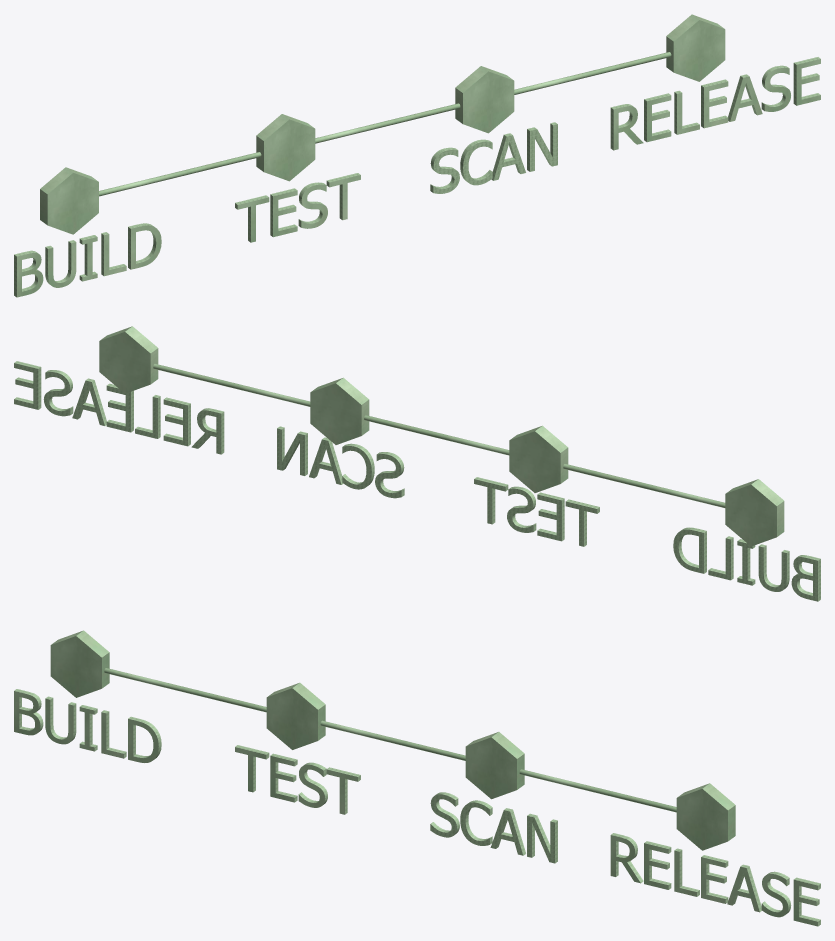
File: pipeline.gltf
3 views of the same model, one above another, from view 1: azimuth 30°, elevation 25°; view 2: azimuth 150°, elevation 25°; view 3: azimuth 330°, elevation 25° (orthographic).
Visible parts, largest first — view 1: RELEASE, BUILD, SCAN, object 1, object 7, object 10, object 5, S2812-PF (×3), TEST; view 2: RELEASE, BUILD, SCAN, object 5, object 7, object 10, object 1, S2812-PF (×3), TEST; view 3: RELEASE, BUILD, SCAN, object 1, object 5, object 7, object 10, S2812-PF (×3), TEST.
Part boxes in pixels (x1,y1,x2,y2): RELEASE: (610,57,820,150); BUILD: (14,223,161,297); SCAN: (430,122,557,193); object 1: (666,14,725,81); object 7: (455,66,514,133); object 10: (256,114,315,181); object 5: (40,167,98,234); S2812-PF (×3): (99,52,671,196); TEST: (235,173,360,242); RELEASE: (14,361,224,454); BUILD: (673,527,820,601); SCAN: (277,426,404,498); object 5: (725,479,784,546); object 7: (310,377,369,444); object 10: (509,425,568,492); object 1: (99,326,158,393); S2812-PF (×3): (153,363,725,507); TEST: (474,477,599,546); RELEASE: (610,833,820,926); BUILD: (14,689,161,762); SCAN: (430,792,557,863); object 1: (676,783,735,850); object 5: (50,630,109,697); object 7: (465,732,524,799); object 10: (266,682,325,749); S2812-PF (×3): (104,668,676,812); TEST: (235,745,360,814).
Bounding box in the file's own units: 4.88 × 0.6488 × 0.11.
2 materials, 1 textured.
